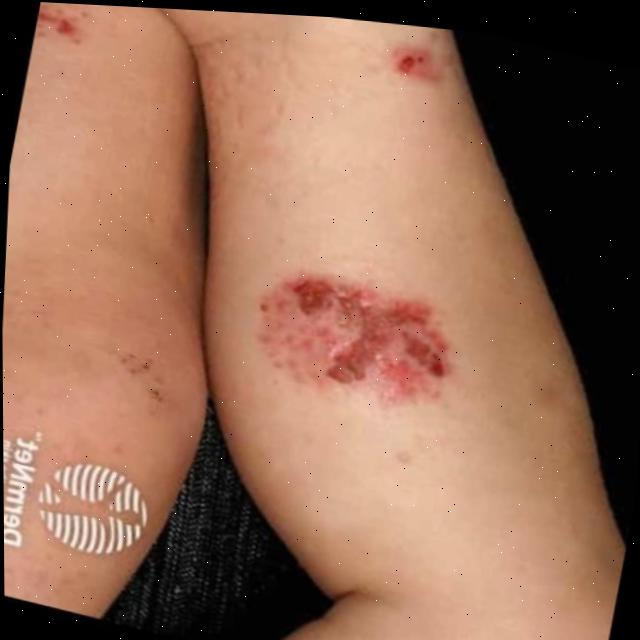Eczema: (226, 281, 452, 416), (33, 2, 85, 47), (396, 40, 438, 89)
